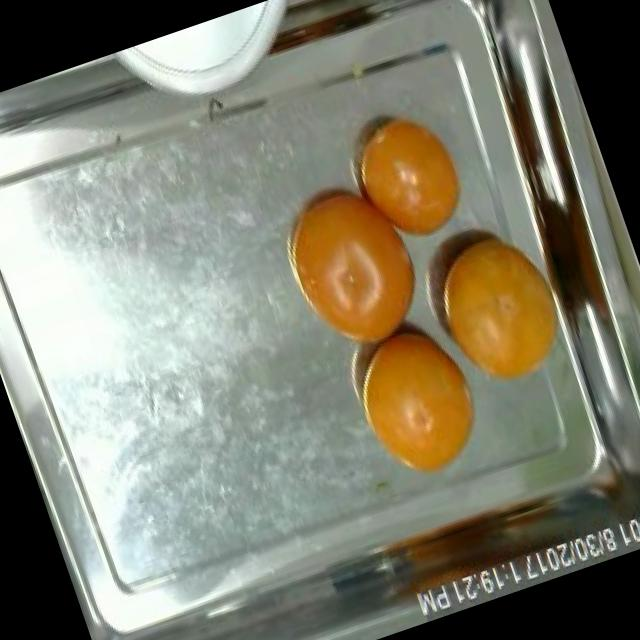Fruit: (257, 146, 448, 374), (416, 212, 584, 412), (334, 302, 503, 499), (328, 90, 487, 266)
